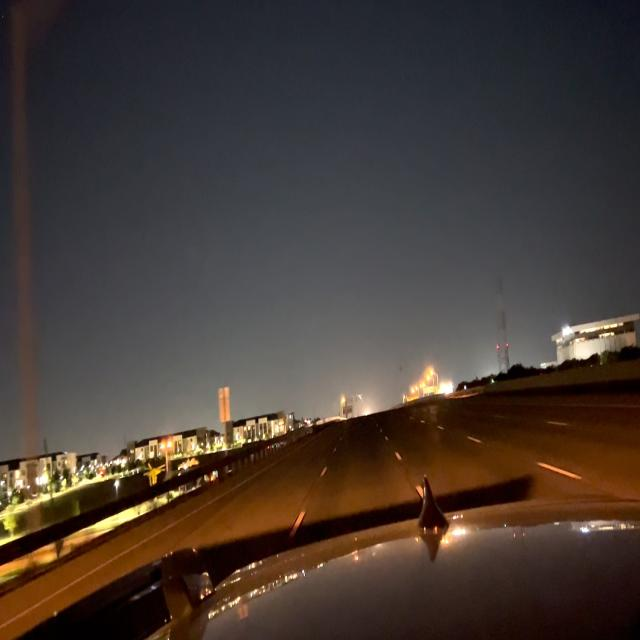back-of-sign: (218, 385, 231, 424)
